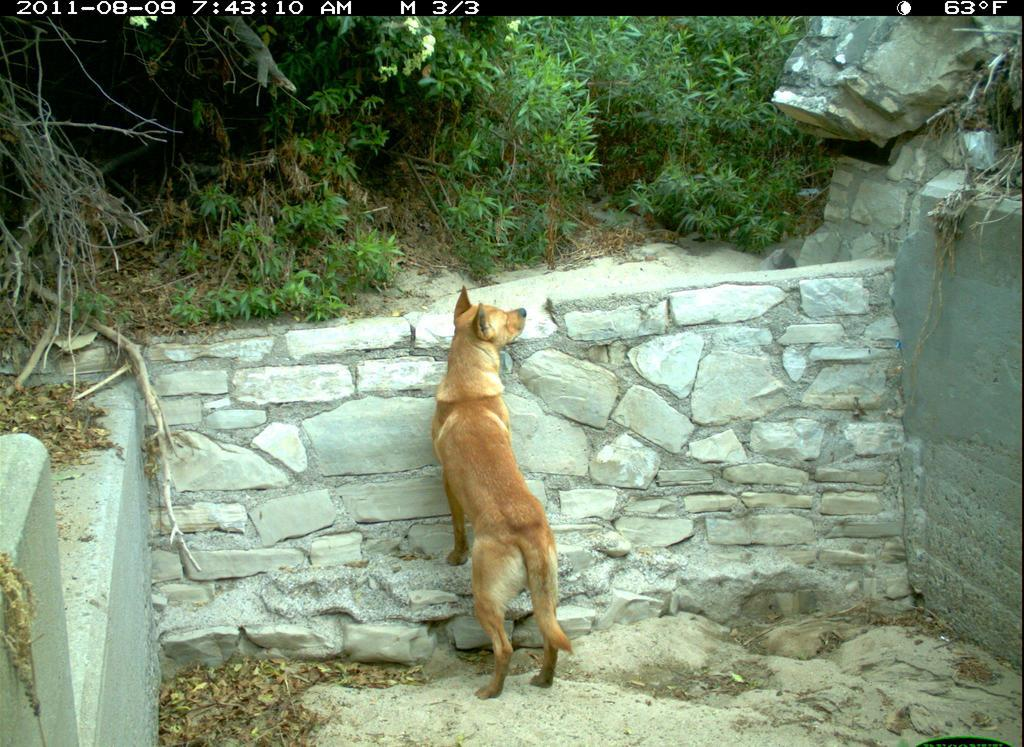dog: (423, 273, 583, 707)
